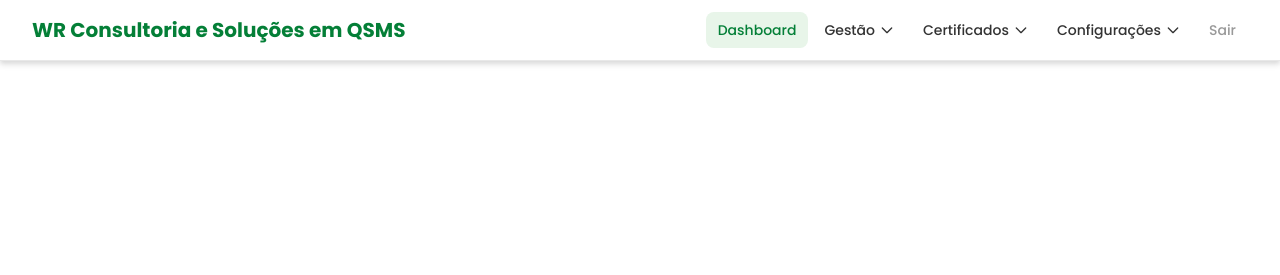
Test: AppNavbar › admin dropdown shows management links when opened
Open the management dropdown
Click the button with test id "nav-group-management" at (860, 30), box [812,12,907,48]
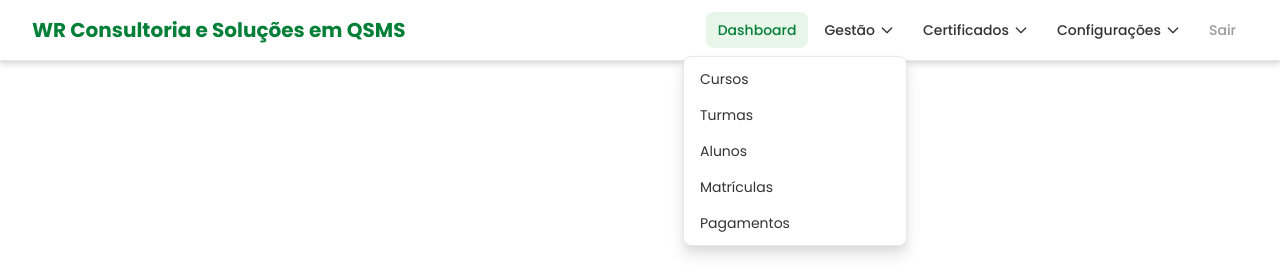
Now the element with test id "dropdown-panel-management" is shown, box [683,56,907,246]
Now the link with test id "nav-link-courses" is shown, box [700,69,749,89]
Now the link with test id "nav-link-classes" is shown, box [700,105,753,125]
